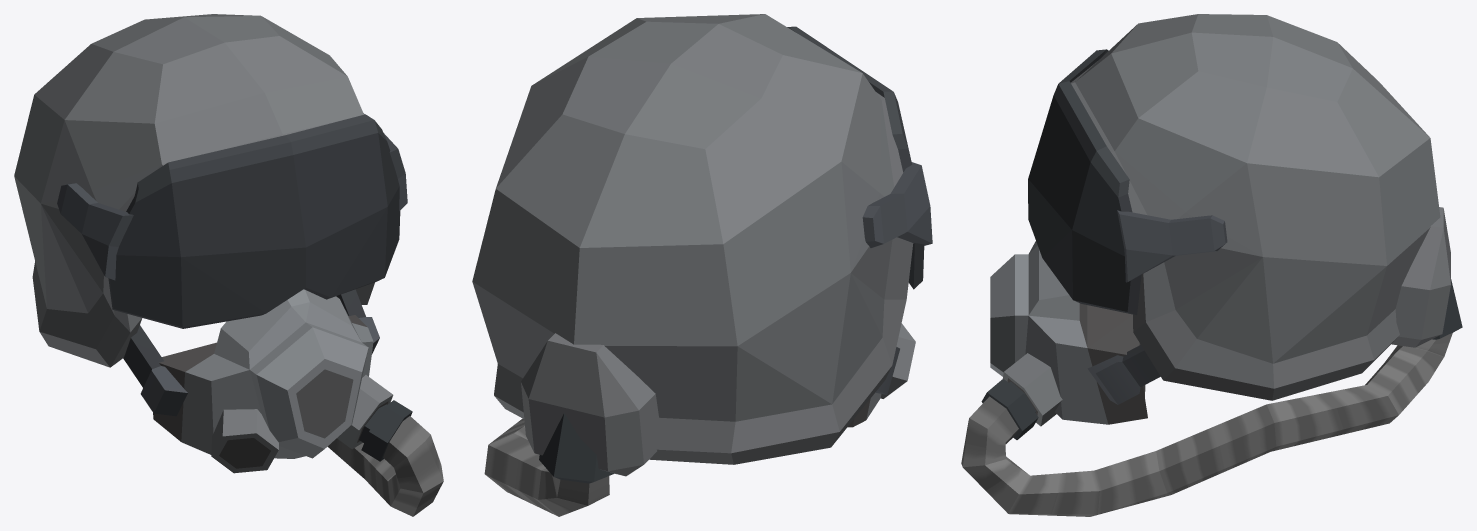
The model's file is SM_Chr_Attach_Helmet_10.fbx.
3 views of the same model, side by side, from view 1: azimuth 30°, elevation 25°; view 2: azimuth 150°, elevation 25°; view 3: azimuth 270°, elevation 25° (orthographic). The views are drawn at different scales.
Parts seen in each view (by area): view 1: SM_Chr_Attach_Helmet_10, SM_Chr_Attach_Helmet_10_Visor; view 2: SM_Chr_Attach_Helmet_10, SM_Chr_Attach_Helmet_10_Visor; view 3: SM_Chr_Attach_Helmet_10, SM_Chr_Attach_Helmet_10_Visor.
Boxes of the visible parts, x1,y1,x2,y2 form: SM_Chr_Attach_Helmet_10: (14,14,443,516); SM_Chr_Attach_Helmet_10_Visor: (57,113,407,328); SM_Chr_Attach_Helmet_10: (472,14,915,516); SM_Chr_Attach_Helmet_10_Visor: (787,26,932,289); SM_Chr_Attach_Helmet_10: (961,14,1462,516); SM_Chr_Attach_Helmet_10_Visor: (1028,49,1227,315).
Bounding box in the file's own units: 30.23 × 40.81 × 42.74.
